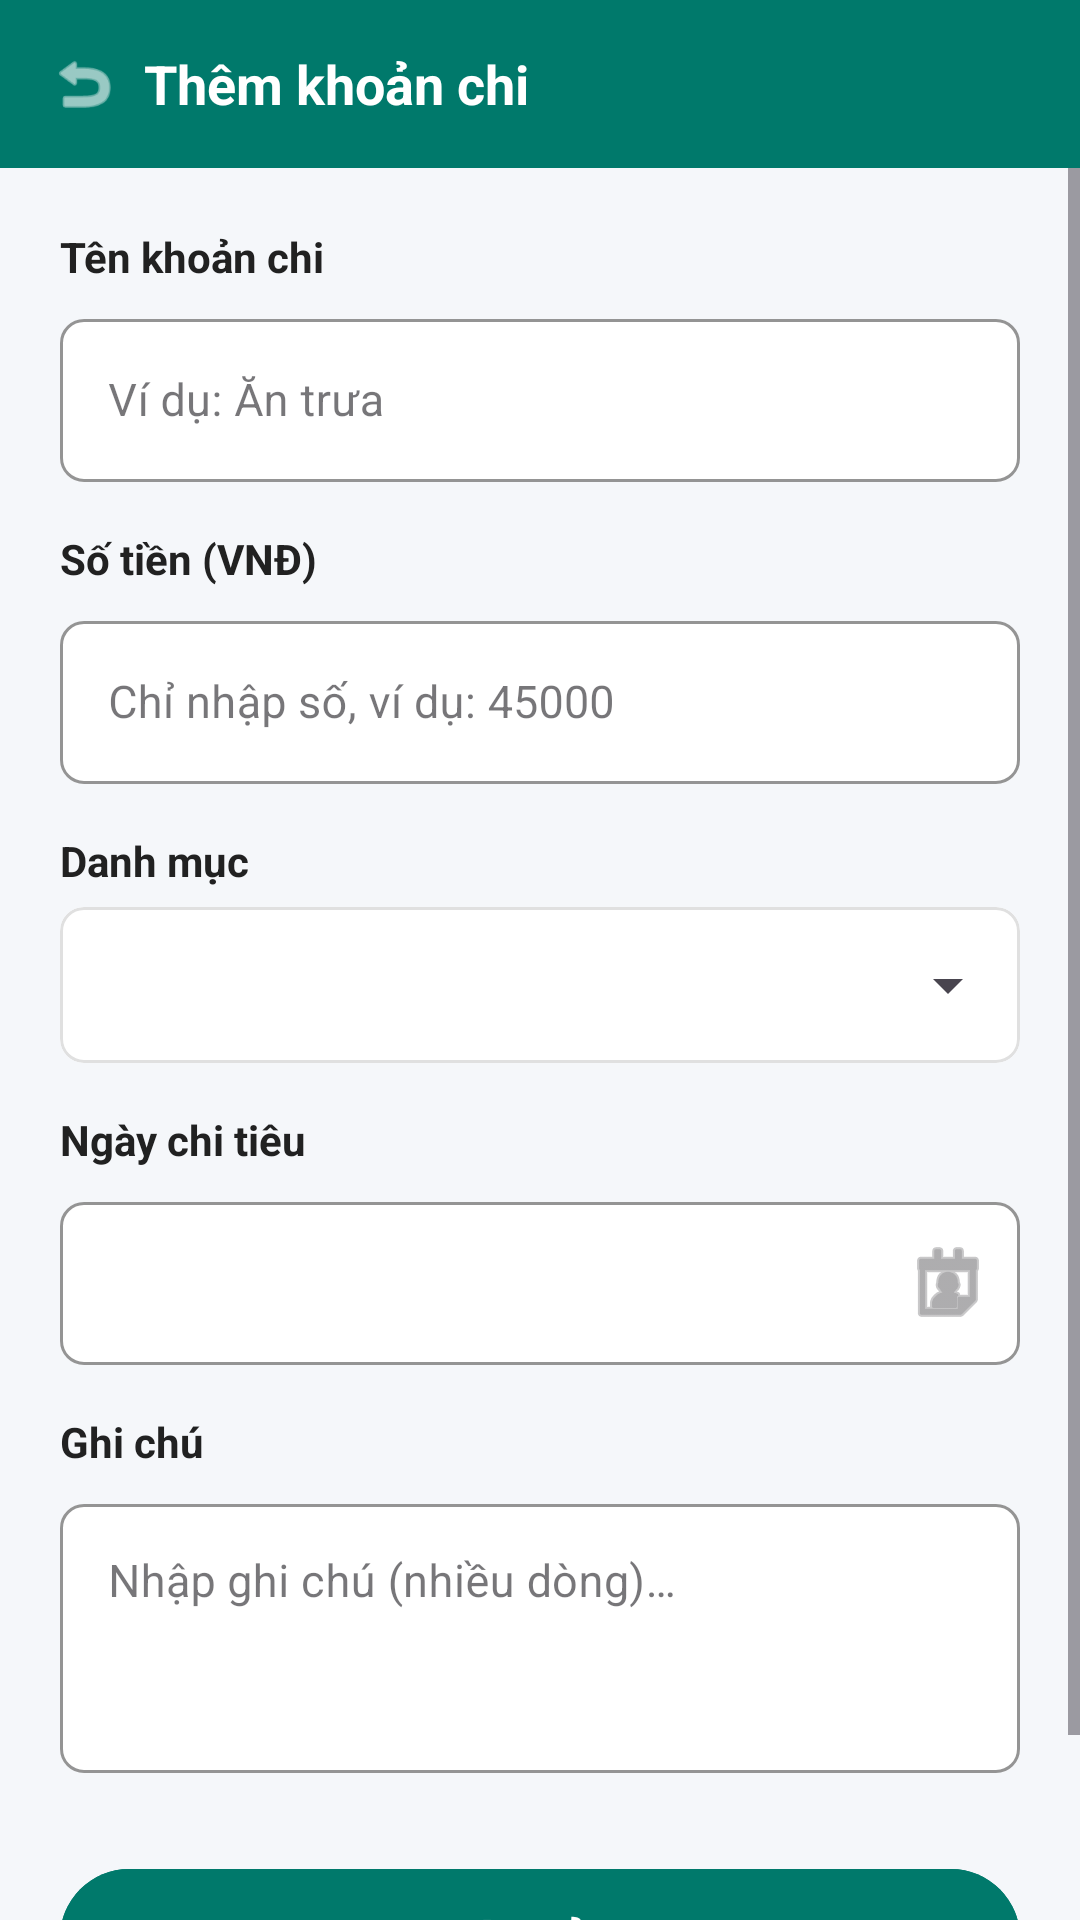

Icons on this 1080px x 1920px Android screen, each with the point to tap as (x=x, y=y):
Quay lại: (x=85, y=84)
